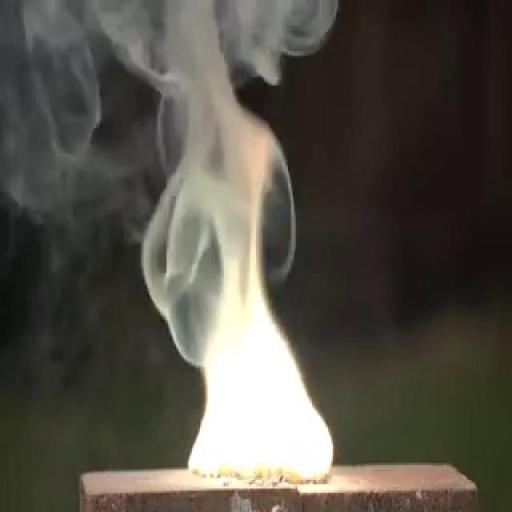smoke: (180, 212, 338, 486)
